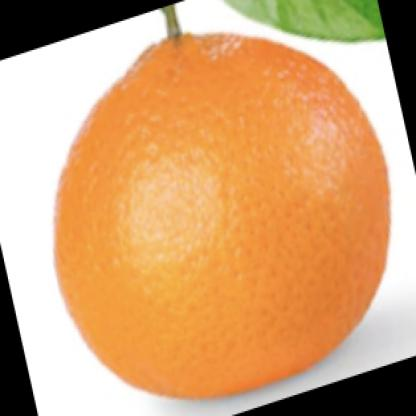orange: (46, 8, 400, 400)
